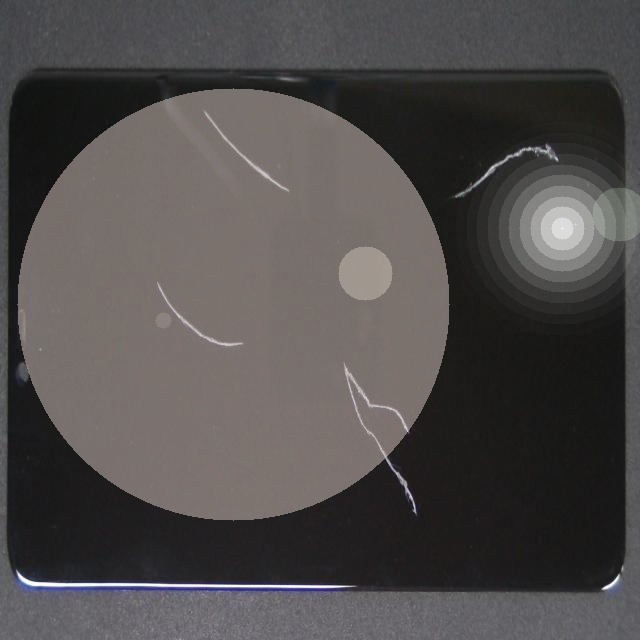scratch: (255, 253, 598, 597), (316, 75, 640, 205), (199, 150, 407, 245)
